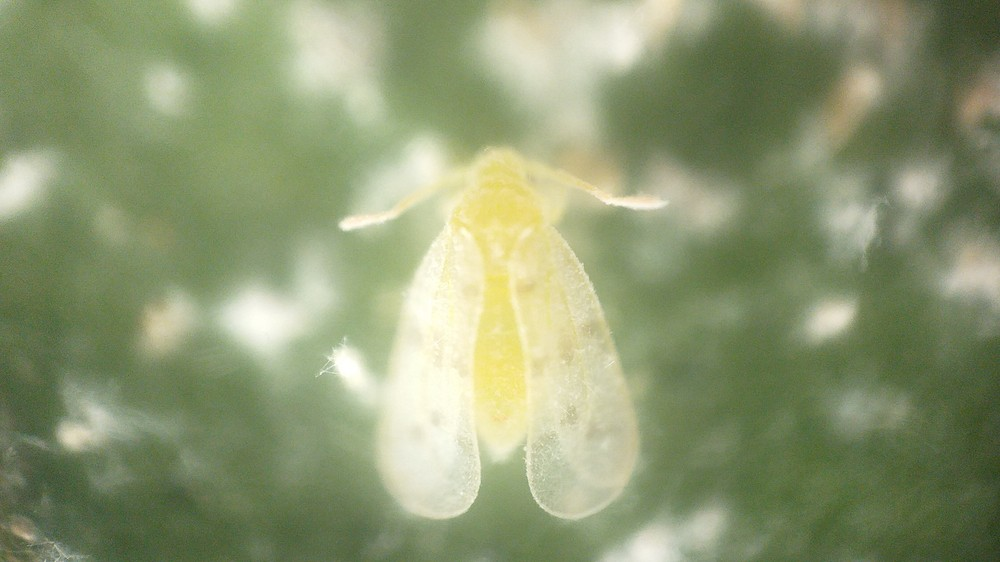Mosca Blanca: (335, 139, 679, 539)
